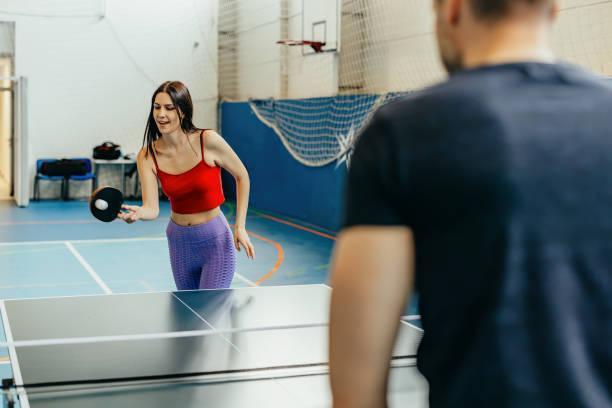ball_pingpong: (95, 198, 110, 211)
